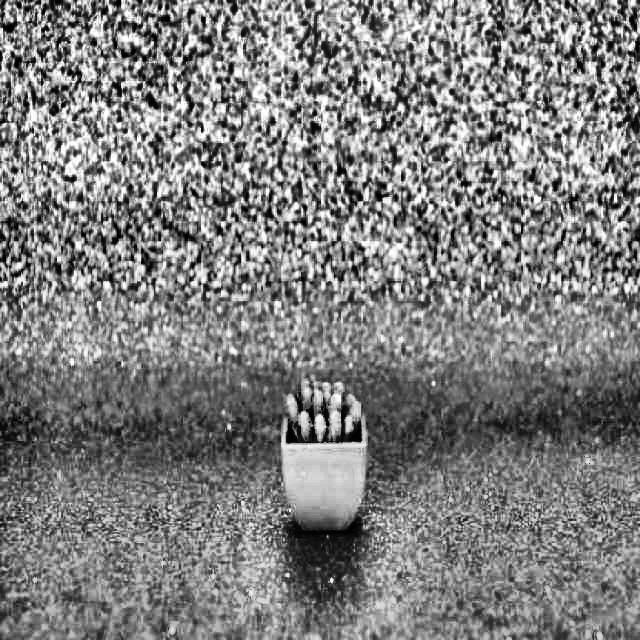plants: (284, 382, 364, 536)
